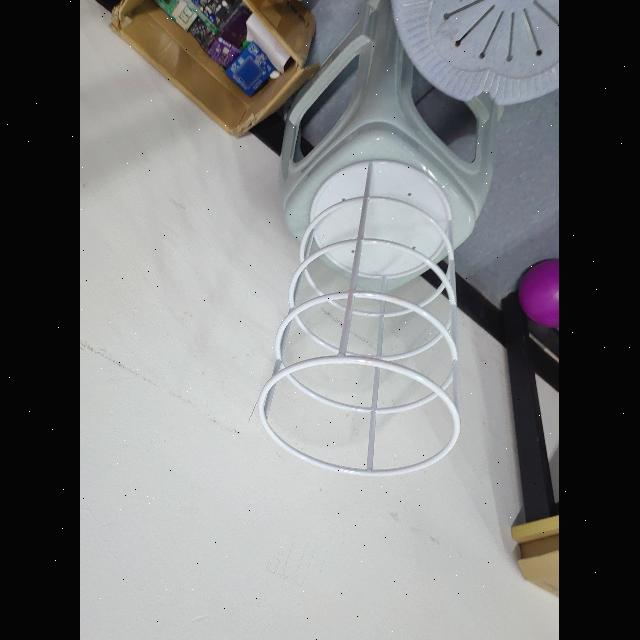S: (256, 153, 466, 480)
